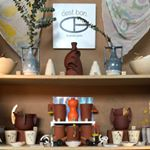cups: (79, 102, 97, 125), (49, 102, 68, 123), (22, 128, 40, 147), (109, 128, 124, 147), (3, 128, 18, 147)
